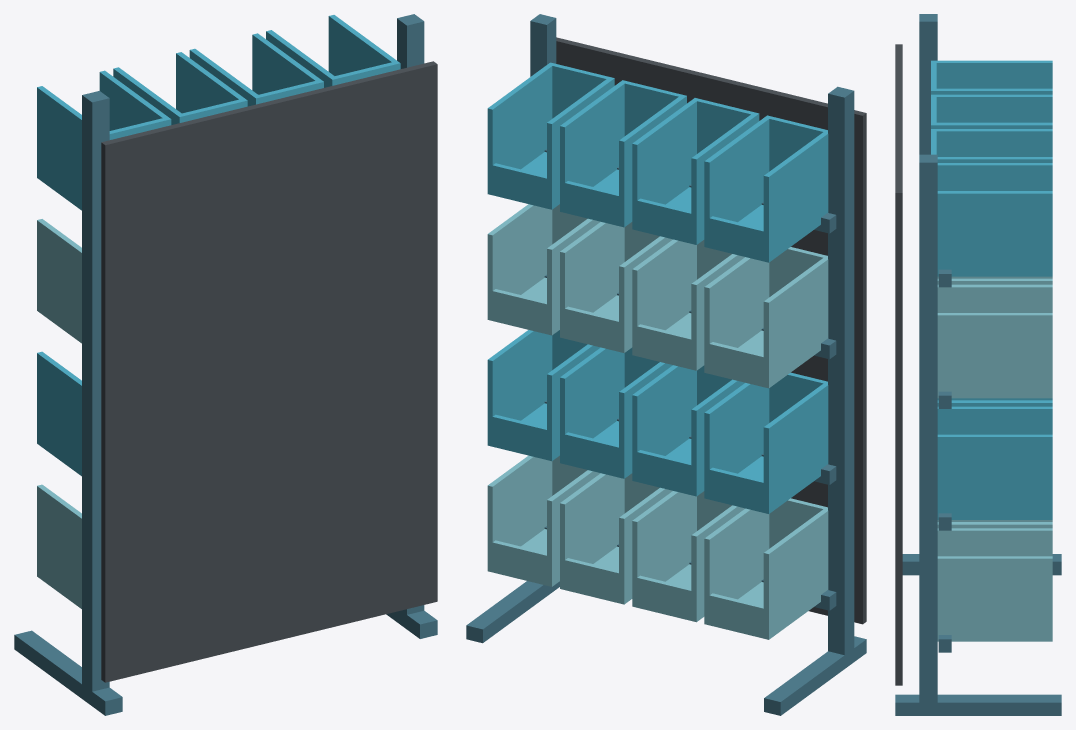
File: concept-parts-rack.glb
3 renders of one model, left to right at view 1: azimuth 30°, elevation 25°; view 2: azimuth 150°, elevation 25°; view 3: azimuth 270°, elevation 25°, orthographic. The views are drawn at different scales.
Parts seen in each view (by area): view 1: Back_panel, Upright, Parts_bin_side, Parts_bin_side.008, Parts_bin_side.016, Parts_bin_side.024, Foot, Parts_bin_side.031, Parts_bin_side.029, Parts_bin_side.027, Parts_bin_side.025, Upright.001 (+7 smaller); view 2: Back_panel, Upright, Parts_bin_side, Parts_bin_side.008, Parts_bin_side.016, Parts_bin_side.024, Parts_bin_side.025, Parts_bin_side.031, Parts_bin_side.029, Parts_bin_side.027, Parts_bin_side.023, Parts_bin_side.001 (+70 smaller); view 3: Upright.001, Parts_bin_side.015, Parts_bin_side.007, Parts_bin_side.031, Parts_bin_side.023, Back_panel, Foot.001, Parts_bin_side.024, Parts_bin_side.026, Parts_bin_side.006, Parts_bin_side.014, Parts_bin_side.022 (+14 smaller).
Part boxes in pixels (x1=…): Back_panel: x1=101, y1=61, x2=437, y2=682; Upright: x1=82, y1=91, x2=109, y2=705; Parts_bin_side: x1=37, y1=484, x2=81, y2=608; Parts_bin_side.008: x1=37, y1=351, x2=81, y2=476; Parts_bin_side.016: x1=37, y1=219, x2=81, y2=340; Parts_bin_side.024: x1=37, y1=86, x2=81, y2=208; Foot: x1=14, y1=630, x2=122, y2=715; Parts_bin_side.031: x1=328, y1=15, x2=400, y2=75; Parts_bin_side.029: x1=252, y1=33, x2=323, y2=94; Parts_bin_side.027: x1=176, y1=52, x2=247, y2=113; Parts_bin_side.025: x1=99, y1=70, x2=170, y2=130; Upright.001: x1=397, y1=14, x2=424, y2=623; Back_panel: x1=556, y1=37, x2=866, y2=624; Upright: x1=828, y1=86, x2=854, y2=668; Parts_bin_side: x1=763, y1=507, x2=828, y2=639; Parts_bin_side.008: x1=763, y1=383, x2=828, y2=513; Parts_bin_side.016: x1=763, y1=255, x2=828, y2=387; Parts_bin_side.024: x1=763, y1=132, x2=828, y2=259; Parts_bin_side.025: x1=704, y1=116, x2=769, y2=247; Parts_bin_side.031: x1=487, y1=63, x2=554, y2=193; Parts_bin_side.029: x1=560, y1=81, x2=624, y2=206; Parts_bin_side.027: x1=632, y1=98, x2=697, y2=228; Parts_bin_side.023: x1=487, y1=204, x2=552, y2=320; Parts_bin_side.001: x1=704, y1=508, x2=769, y2=617; Upright.001: x1=919, y1=154, x2=937, y2=715; Parts_bin_side.015: x1=937, y1=434, x2=1052, y2=519; Parts_bin_side.007: x1=937, y1=556, x2=1052, y2=641; Parts_bin_side.031: x1=937, y1=191, x2=1052, y2=276; Parts_bin_side.023: x1=937, y1=313, x2=1052, y2=398; Back_panel: x1=895, y1=44, x2=902, y2=685; Foot.001: x1=895, y1=694, x2=1061, y2=715; Parts_bin_side.024: x1=936, y1=60, x2=1052, y2=88; Parts_bin_side.026: x1=936, y1=94, x2=1052, y2=122; Parts_bin_side.006: x1=937, y1=528, x2=1052, y2=556; Parts_bin_side.014: x1=937, y1=406, x2=1052, y2=434; Parts_bin_side.022: x1=937, y1=284, x2=1052, y2=312.
Size of the model in its own units: 0.95 by 1.65 by 0.45.
